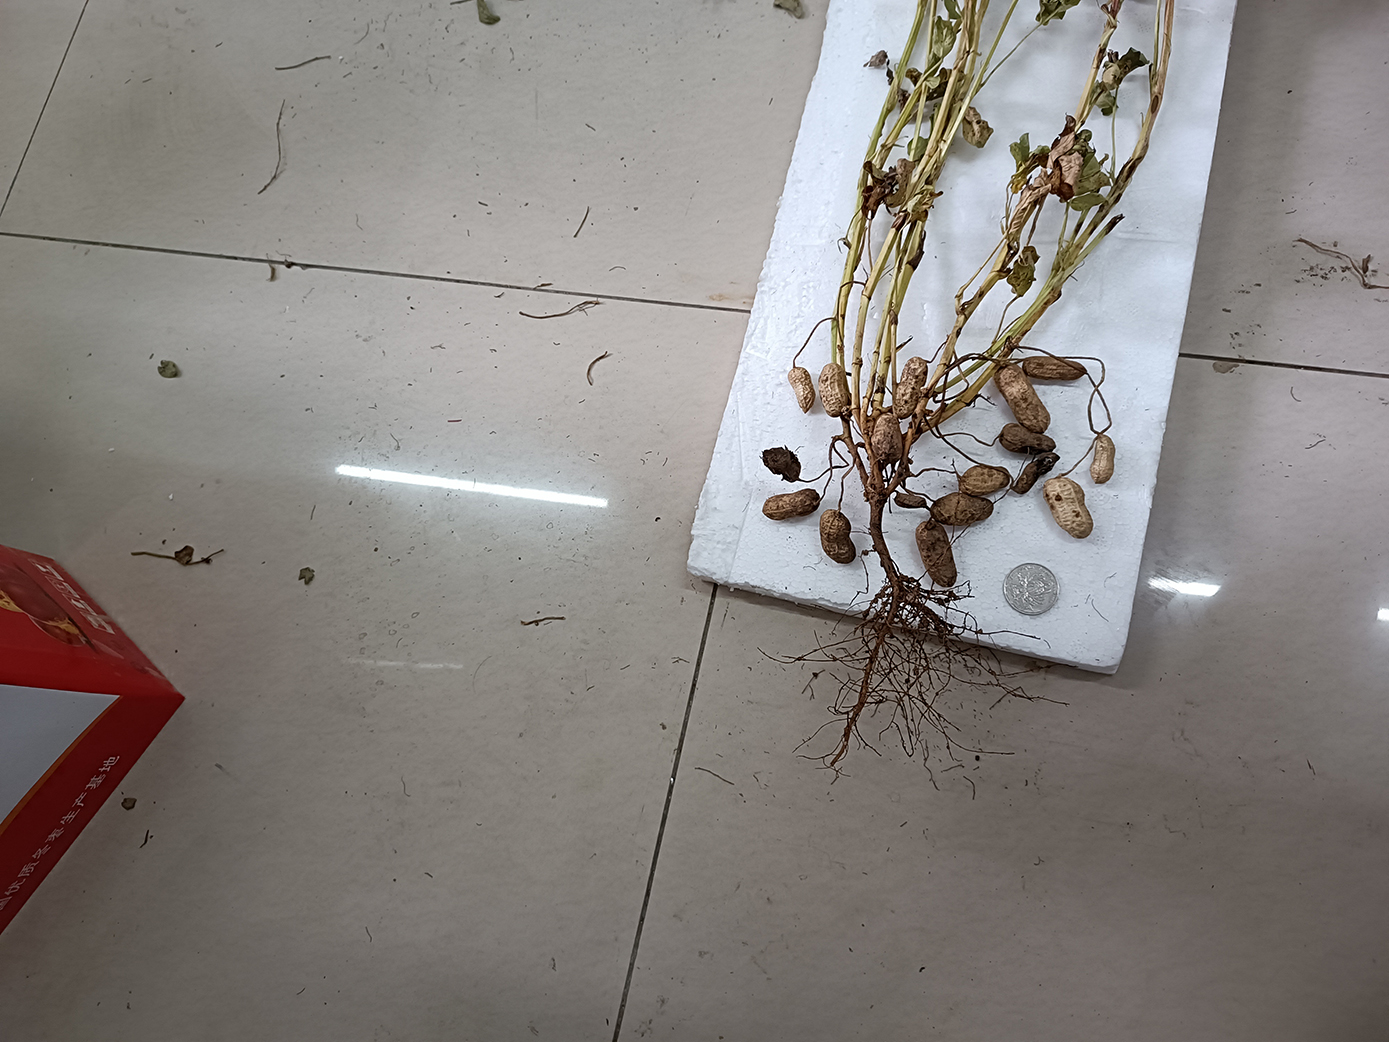h: (995, 363, 1051, 435), (1042, 477, 1093, 539), (818, 508, 856, 564), (817, 361, 850, 418), (957, 464, 1011, 497), (871, 413, 903, 463), (1088, 433, 1115, 484), (787, 366, 815, 414)
l: (915, 520, 957, 588), (892, 357, 929, 420), (929, 491, 995, 526), (761, 488, 822, 521), (1015, 452, 1060, 495), (1000, 422, 1057, 453), (1022, 355, 1087, 381), (759, 444, 800, 482), (893, 493, 928, 509)
